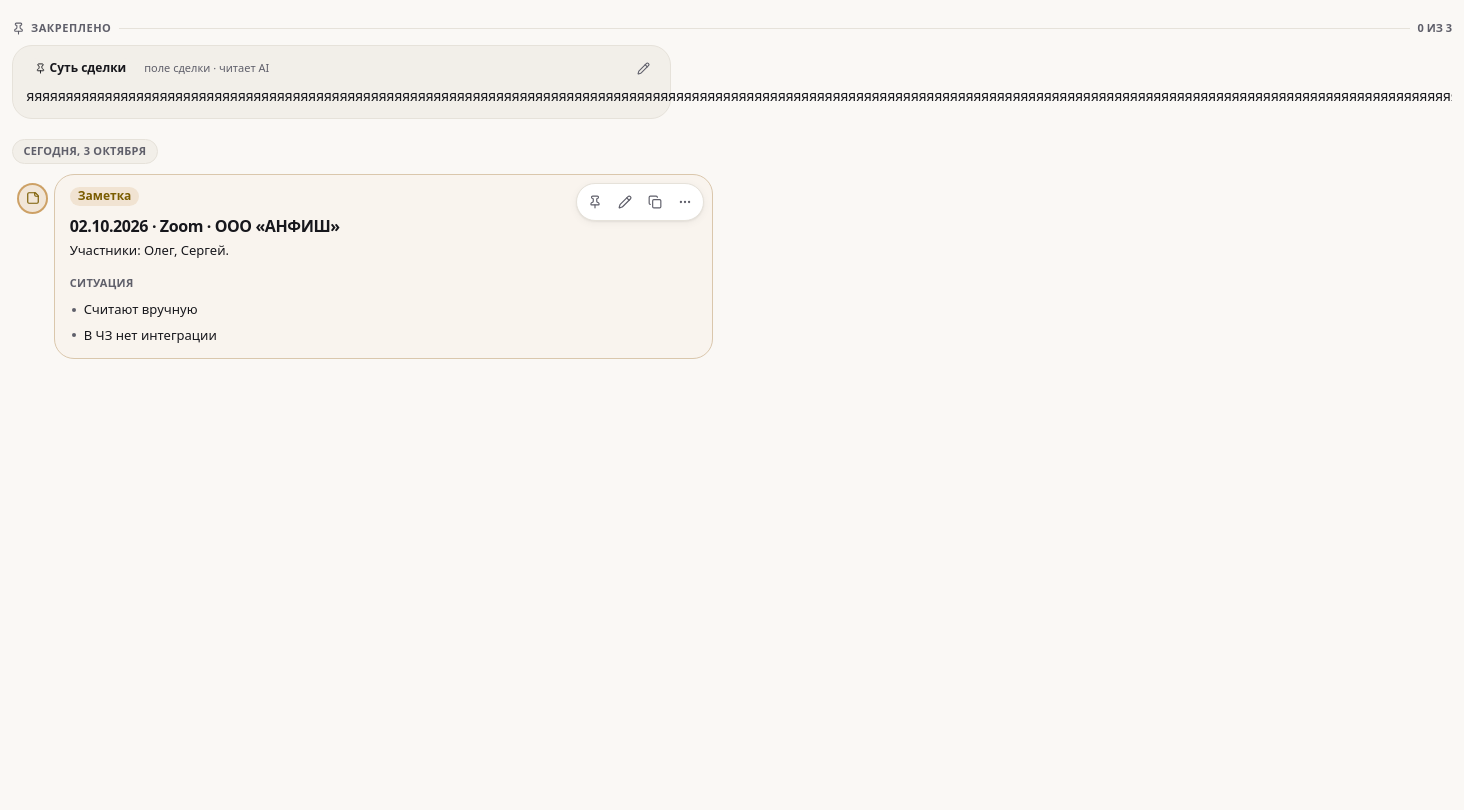
it: DealActivityFeed: суть сделки › длинное значение от AI (> 500) не обрезается: лимит — исходная длина
The width and height of the screenshot is (1464, 810).
Click the button named "Изменить суть сделки" at {"x": 644, "y": 68}, box [631, 56, 656, 81]
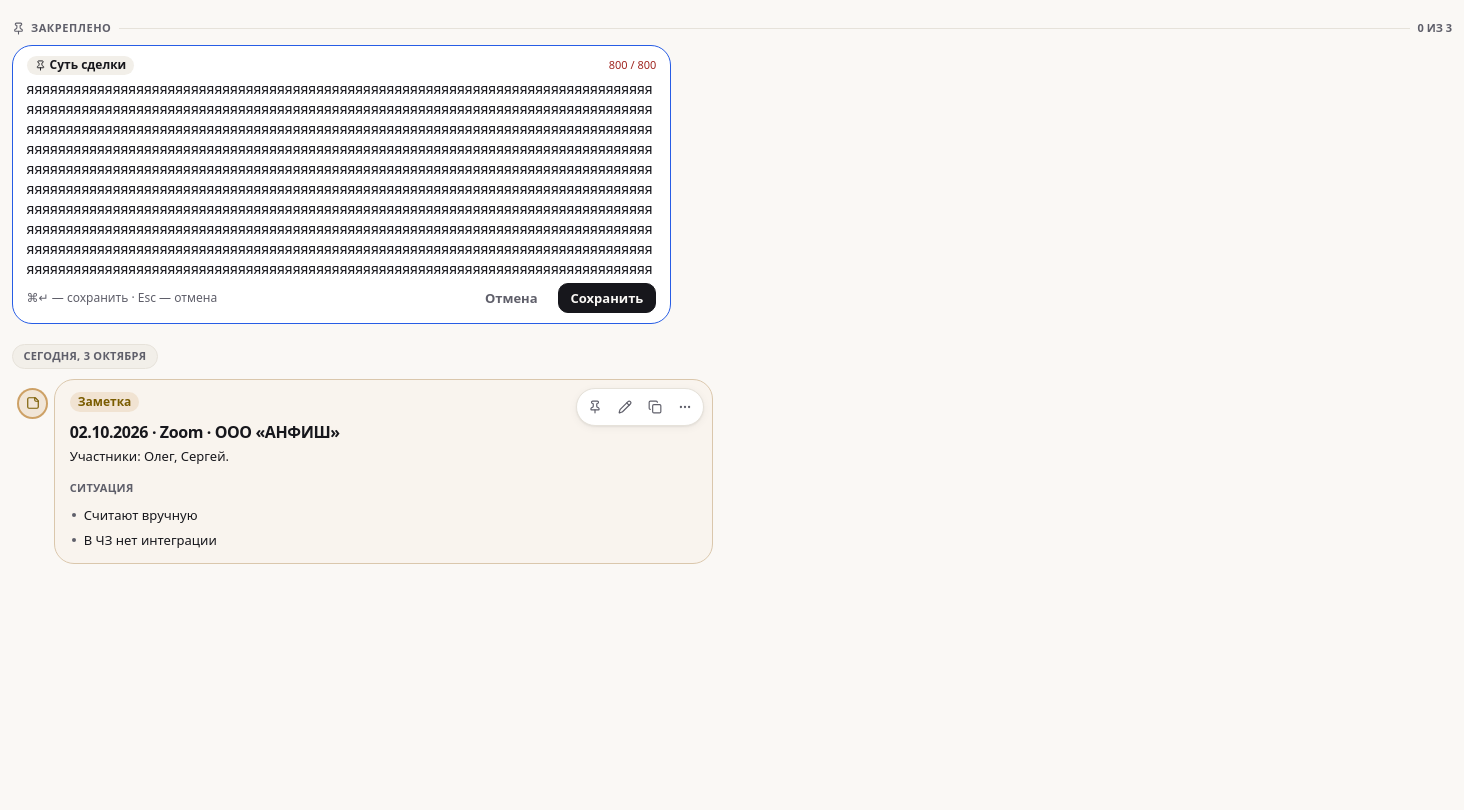
Now the text "800 / 800" is shown, box [609, 57, 656, 74]
